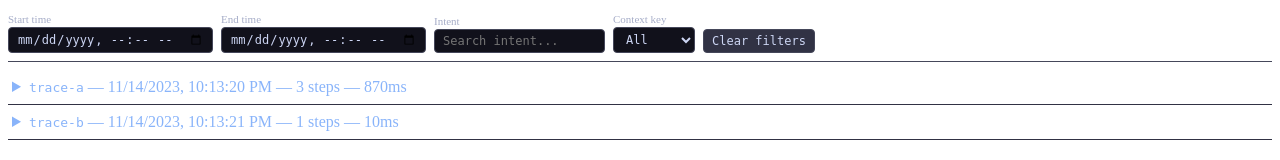
TraceTab › clear filters › resets all filters
# Apply intent filter
Type "dashboard" into the field named "Filter by intent" at (520, 41), box x1=434 y1=29 x2=605 y2=53
Wait 250 ms
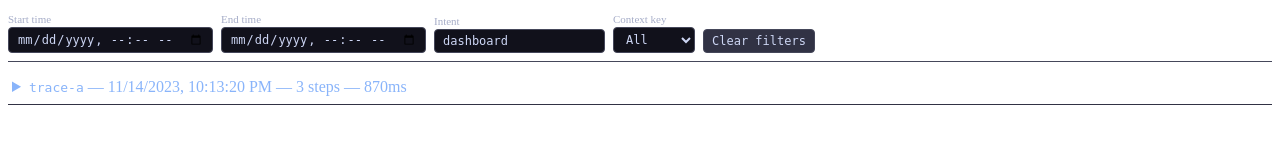
Now the heading "trace-b" is gone
# Clear filters
Click the button with aria-label "Clear all filters" at (759, 41), box x1=703 y1=29 x2=815 y2=53
Wait 250 ms
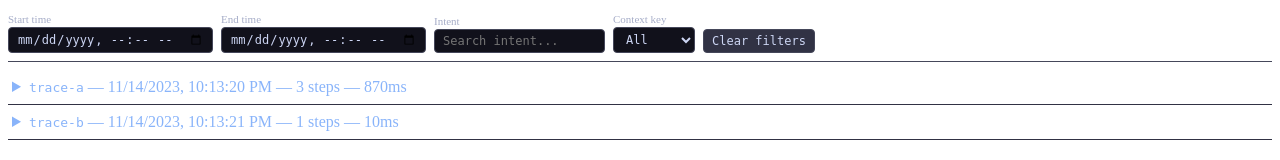
Expected: the text "trace-a" is shown, x1=29 y1=80 x2=84 y2=95
Now the text "trace-b" is shown, box x1=29 y1=115 x2=84 y2=130
